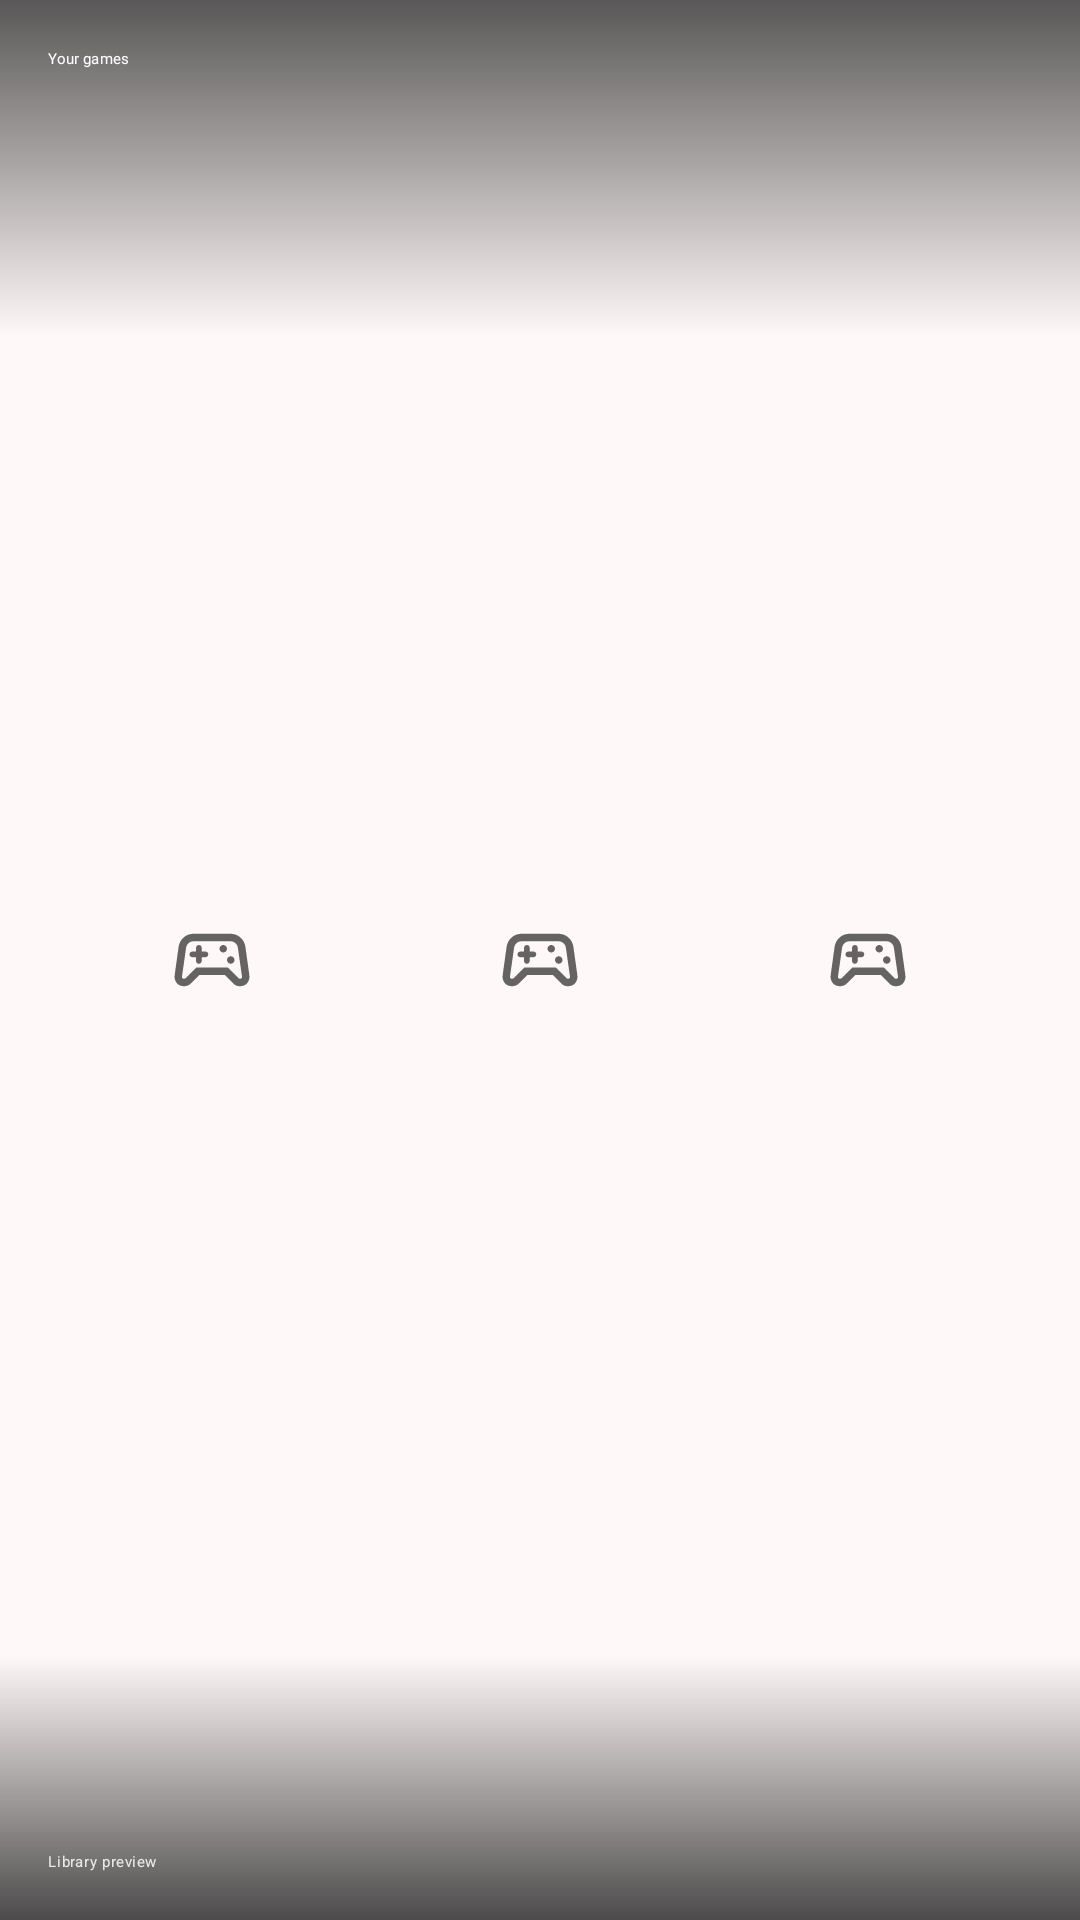

Icons on this 1080x1920 Android screen, each with its box as box(x1, y1, x2, y2):
sports esports: box(174, 933, 250, 987), box(502, 933, 578, 987), box(830, 933, 906, 987)
